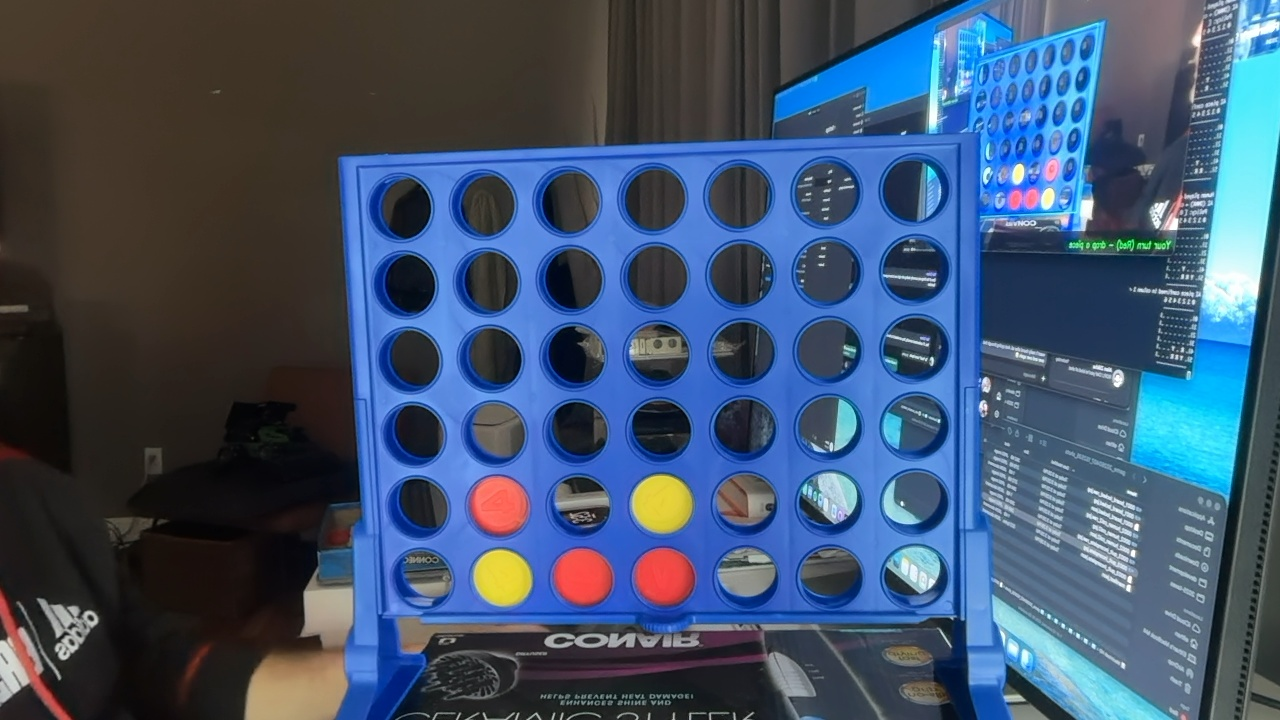red piece: (469, 476, 529, 536), (633, 548, 695, 606), (553, 548, 613, 607)
yellow piece: (631, 474, 693, 534), (473, 549, 532, 606)
